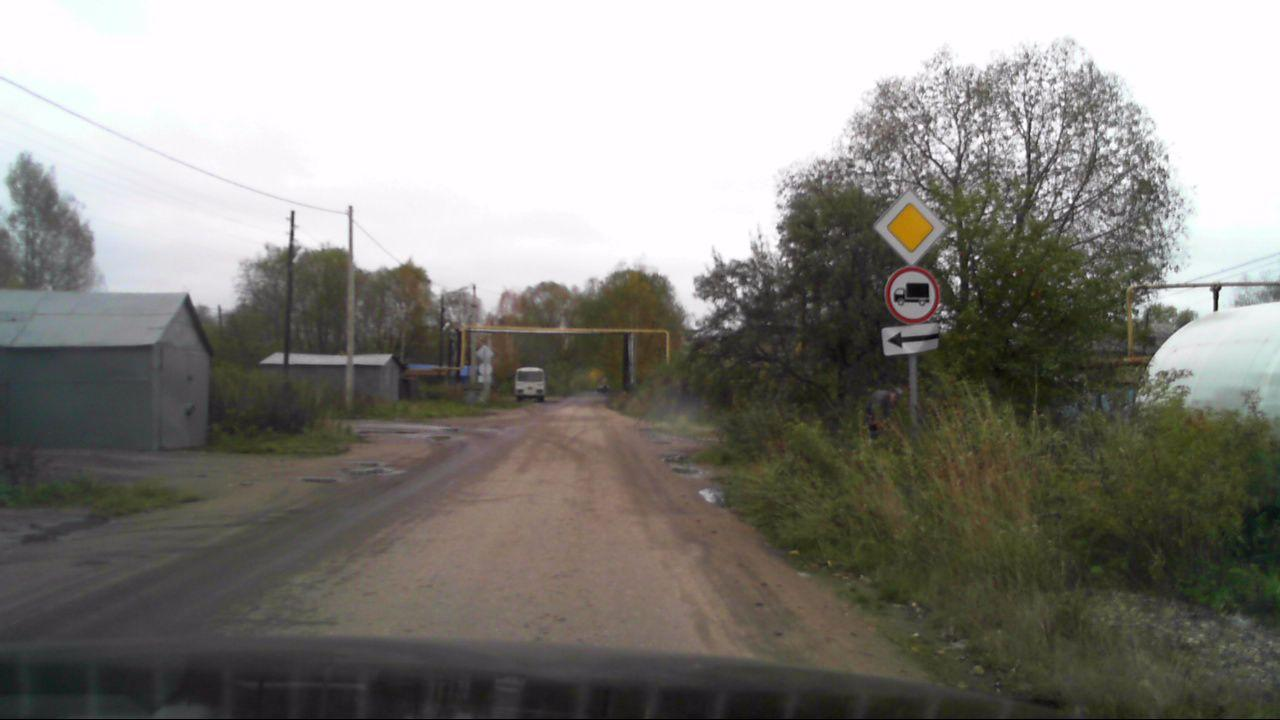2_1: (871, 193, 949, 264)
3_4: (884, 266, 941, 325)
8_3_2: (881, 325, 941, 358)
